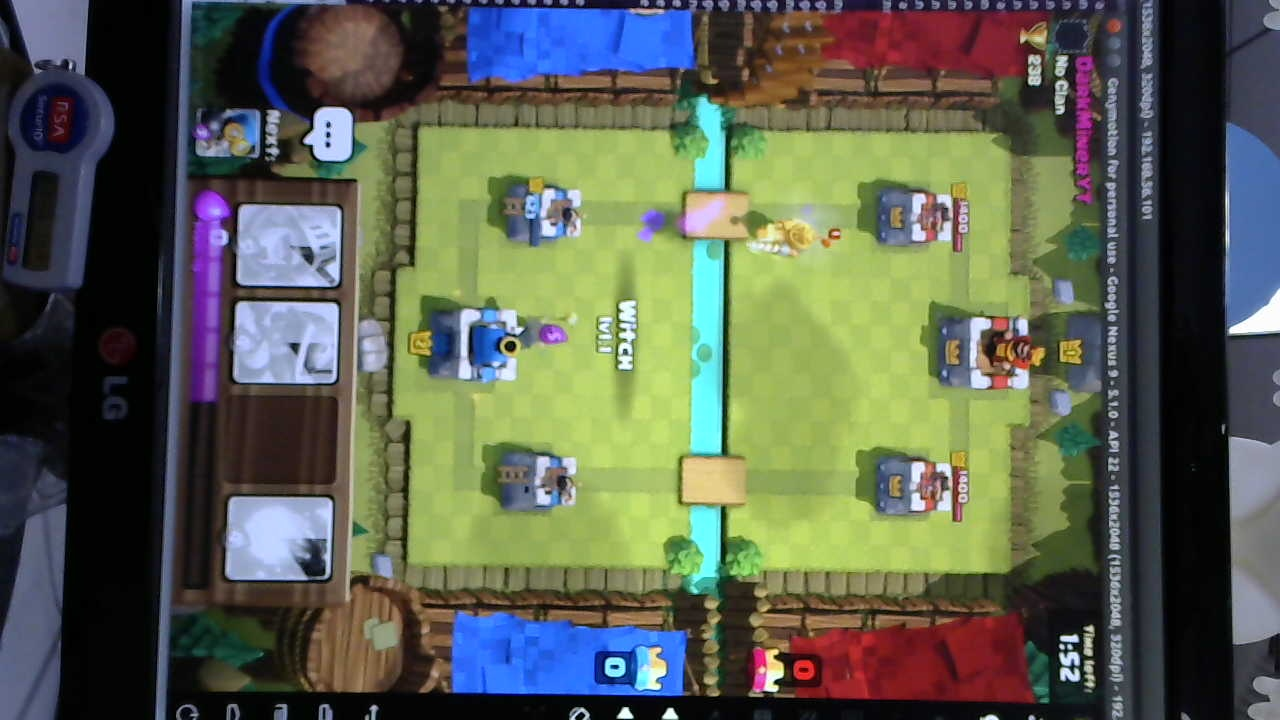arena: (493, 447, 581, 515), (505, 179, 586, 245)
earena: (870, 190, 957, 251), (870, 455, 953, 518)
eking: (929, 316, 1041, 392)
king: (436, 305, 519, 383)
prince: (750, 216, 820, 259)
